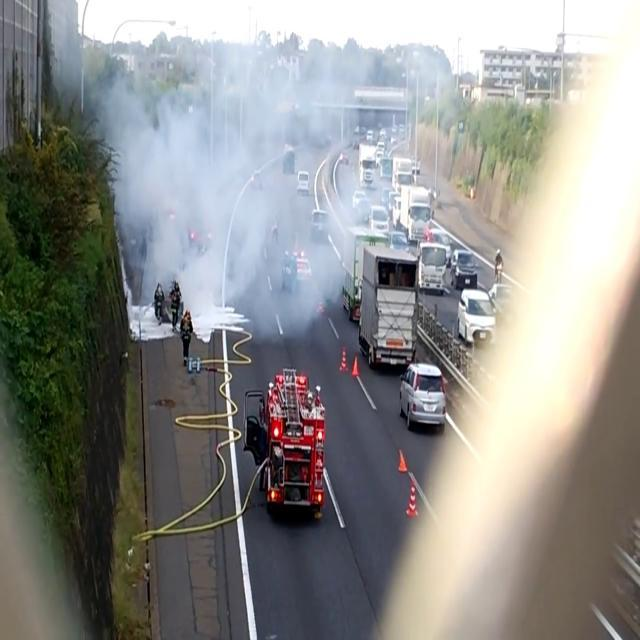Smoke: (73, 0, 371, 316)
